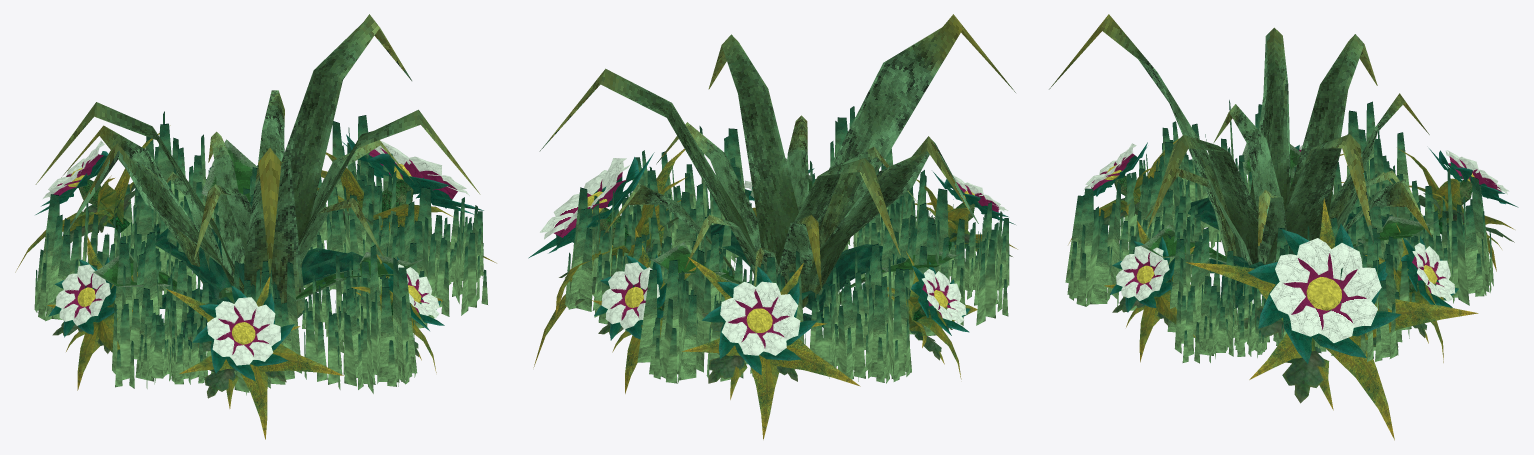
File: prefab_12.glb
The picture shows the model from 3 angles, left to right: view 1: azimuth 30°, elevation 25°; view 2: azimuth 150°, elevation 25°; view 3: azimuth 270°, elevation 25°; orthographic projection. The views are drawn at different scales.
Parts seen in each view (by area): view 1: PRFB_12; view 2: PRFB_12; view 3: PRFB_12.
Part boxes in pixels (x1,y1,x2,y2): PRFB_12: [15, 14, 496, 439]; PRFB_12: [528, 14, 1017, 439]; PRFB_12: [1049, 14, 1518, 440].
Size of the model in its own units: 1.87 by 1.34 by 1.91.
Materials: 2 (2 with a texture image).
